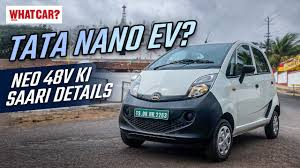Nano: (120, 41, 281, 160)
